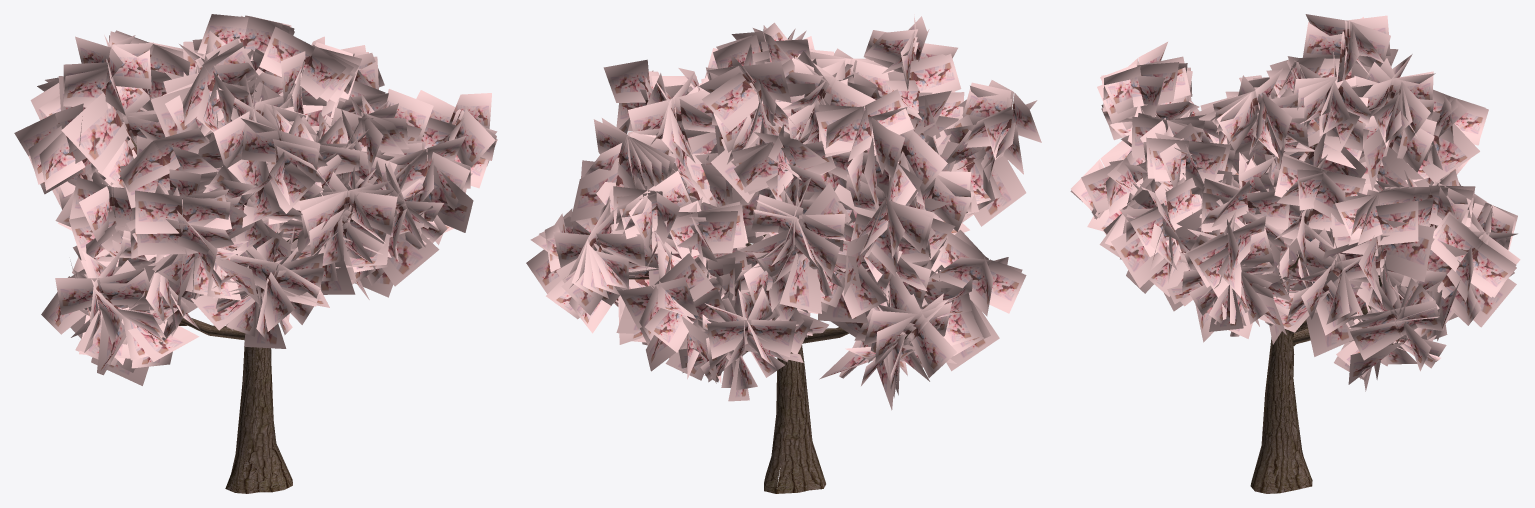
The model's file is newsakura_tree.glb.
3 views of the same model, side by side, from view 1: azimuth 30°, elevation 25°; view 2: azimuth 150°, elevation 25°; view 3: azimuth 270°, elevation 25° (orthographic). The views are drawn at different scales.
Parts seen in each view (by area): view 1: Sakura; view 2: Sakura; view 3: Sakura.
Boxes of the visible parts, <box> form: Sakura: <box>14,14,497,493</box>; Sakura: <box>526,14,1041,493</box>; Sakura: <box>1070,14,1520,493</box>.
Size of the model in its own units: 0.4036 by 0.4176 by 0.4016.
2 materials, 2 textured.
